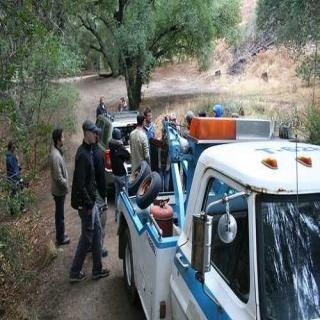Towing_truck: (114, 111, 318, 318)
